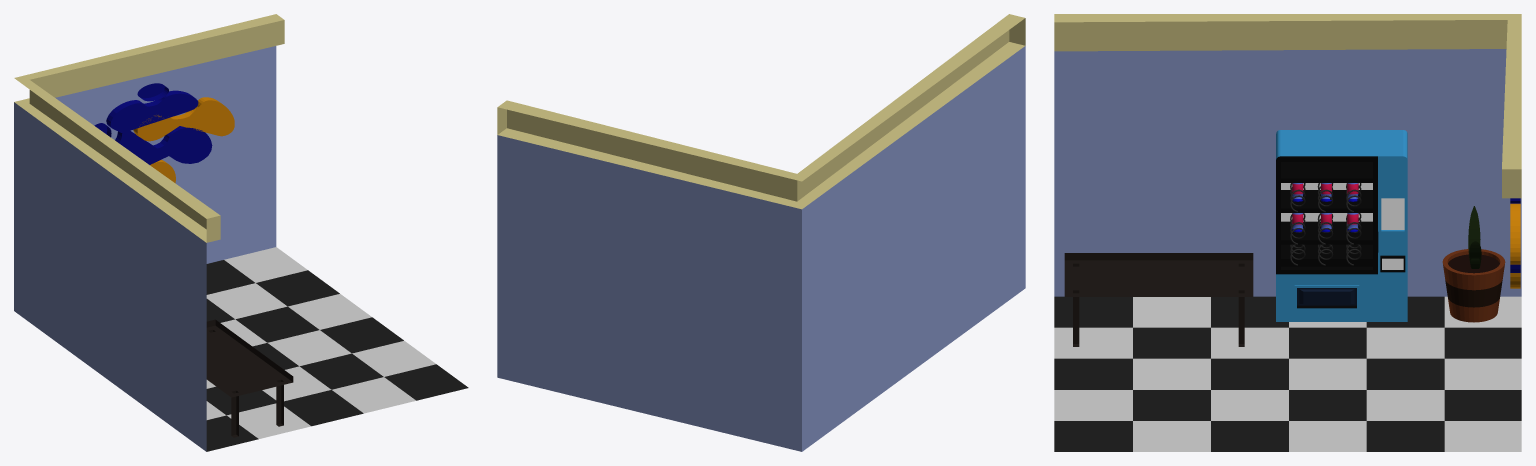
Rendered from Allanim0007.obj.
The picture shows the model from 3 angles, left to right: view 1: azimuth 30°, elevation 25°; view 2: azimuth 150°, elevation 25°; view 3: azimuth 270°, elevation 25°; orthographic projection. The views are drawn at different scales.
Parts seen in each view (by area): view 1: ruangan_Cube.003, meja_Cube.004, logo.001_Circle.019, logo_Circle.006, logo.005_Circle.023; view 2: ruangan_Cube.003; view 3: ruangan_Cube.003, vending_machine_Cube.001, meja_Cube.004, pot_bunga_Cylinder, per_second\_Spiral.010, Plane.007, logo_Circle.006.
Part boxes in pixels (x1,y1,x2,y2): ruangan_Cube.003: (14,14,468,451); meja_Cube.004: (206,319,293,437); logo.001_Circle.019: (115,126,212,164); logo_Circle.006: (133,97,234,141); logo.005_Circle.023: (106,90,198,133); ruangan_Cube.003: (497,14,1025,451); ruangan_Cube.003: (1054,14,1521,451); vending_machine_Cube.001: (1276,130,1407,321); meja_Cube.004: (1064,253,1253,346); pot_bunga_Cylinder: (1442,249,1505,322); per_second\_Spiral.010: (1290,183,1361,265); Plane.007: (1468,206,1481,268); logo_Circle.006: (1510,203,1520,264).
Size of the model in its own units: 11.73 by 9.95 by 14.9.
